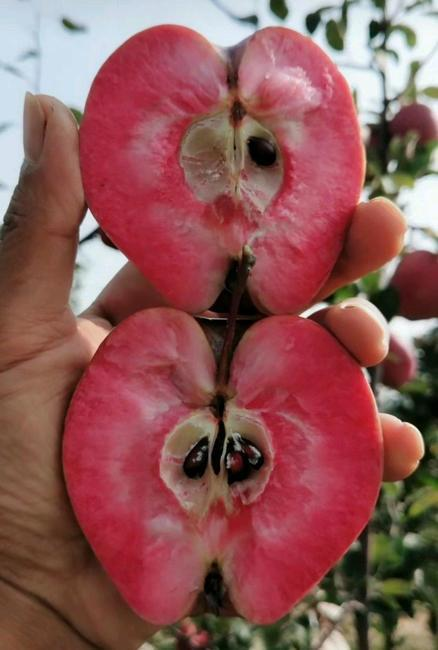apple: (60, 308, 384, 626), (77, 23, 366, 315), (386, 249, 437, 317)
